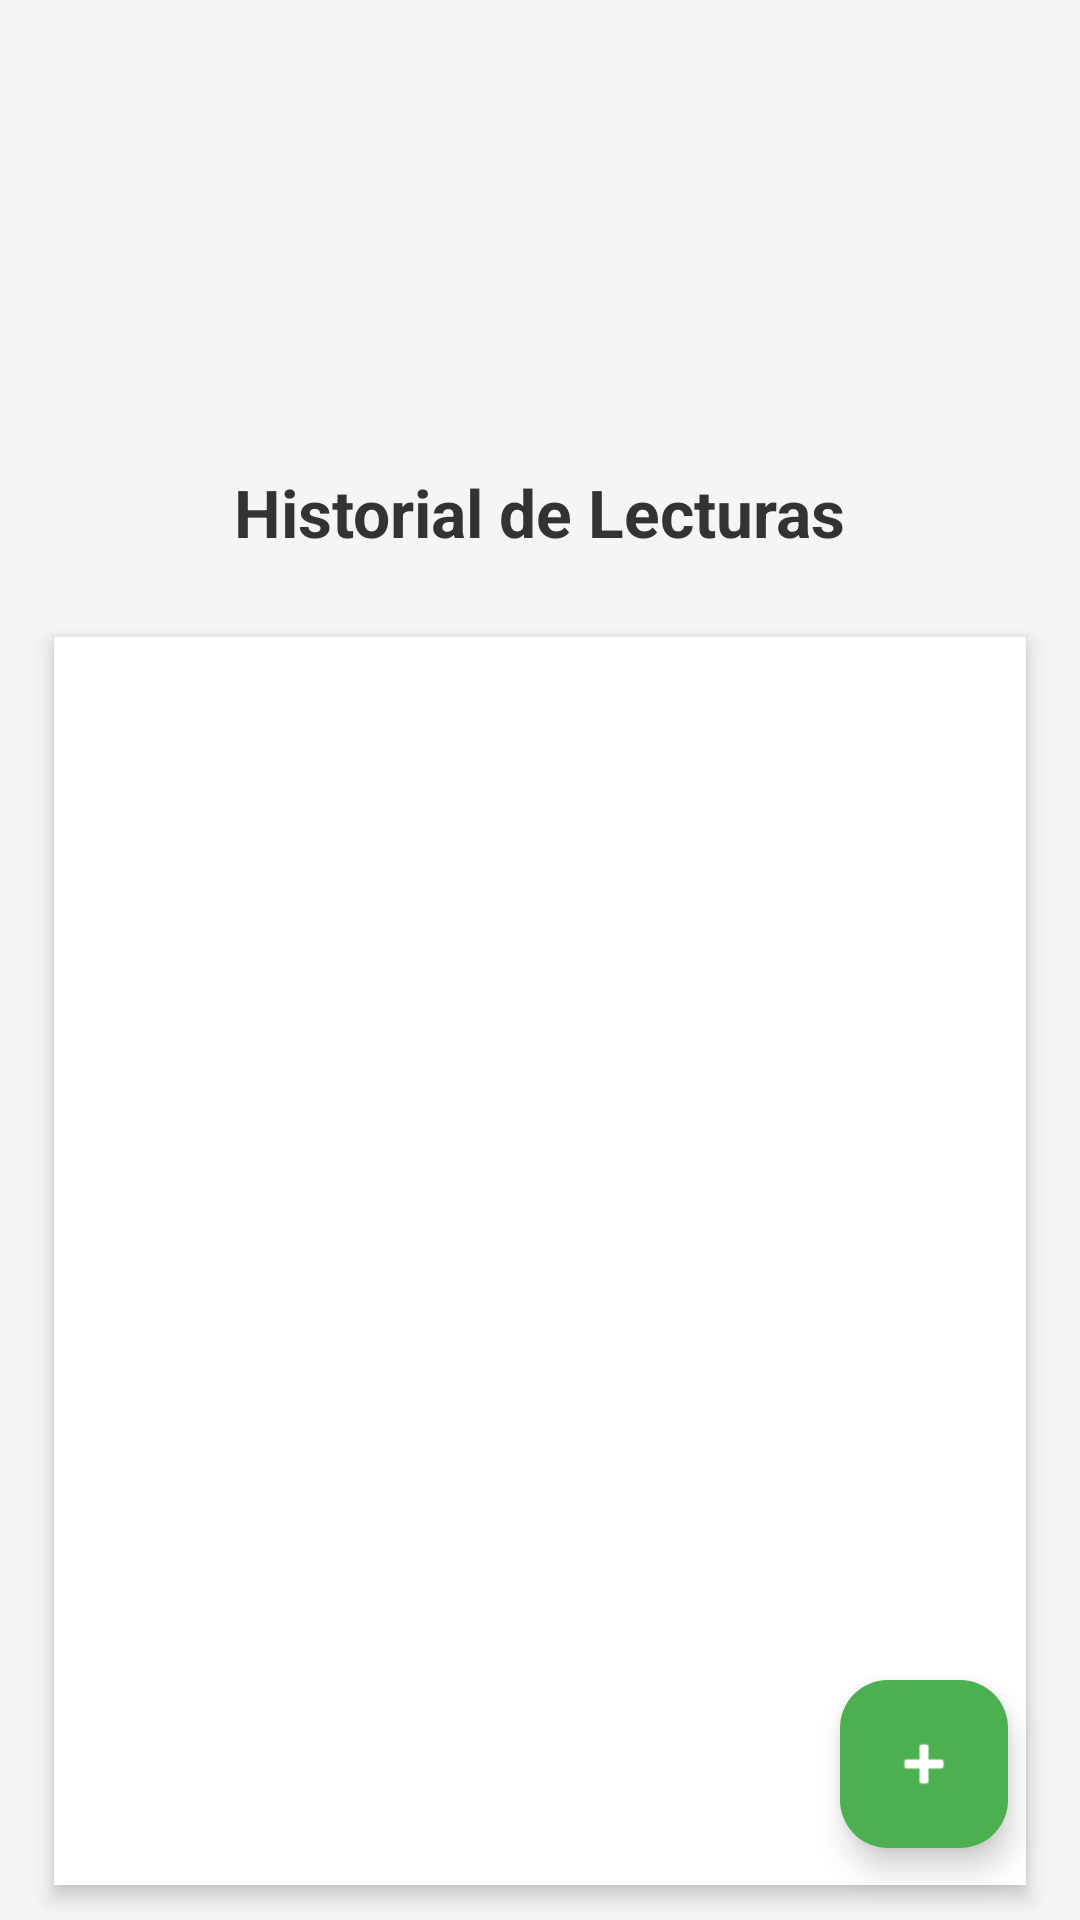

Locate icon controls on the screen. Image size 1080 × 1920, boxes as (x1, y1, x2, y2).
Agregar lectura: (840, 1680, 1008, 1848)
